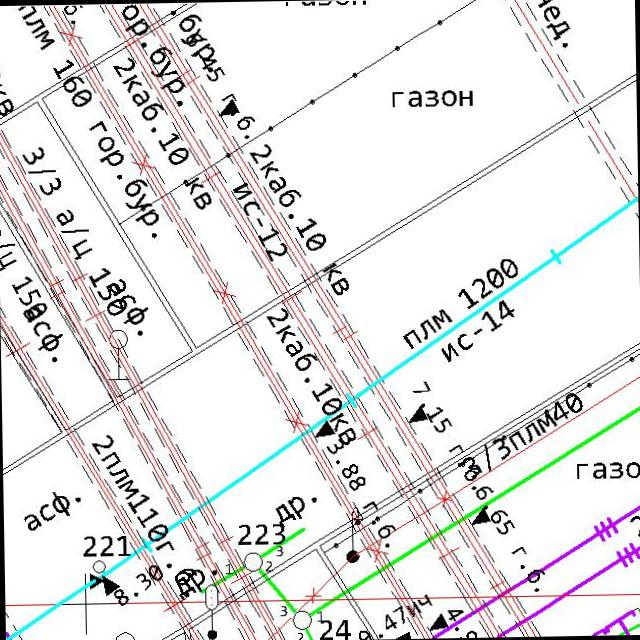mark: (100, 572, 122, 597), (218, 96, 240, 116), (313, 418, 335, 438), (407, 404, 428, 424), (470, 505, 491, 525), (427, 613, 450, 631)
sing: (106, 327, 130, 381)
well: (290, 608, 312, 631), (242, 550, 263, 572)
